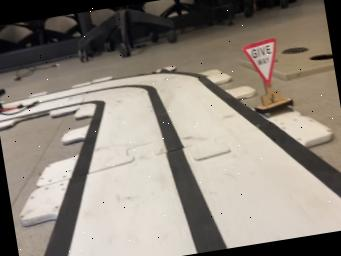give_way: (241, 38, 292, 113), (241, 38, 292, 113), (241, 38, 292, 113), (241, 38, 292, 113), (241, 38, 292, 113)
street: (28, 70, 341, 256), (28, 70, 341, 256), (28, 70, 341, 256), (28, 70, 341, 256), (28, 70, 341, 256)
